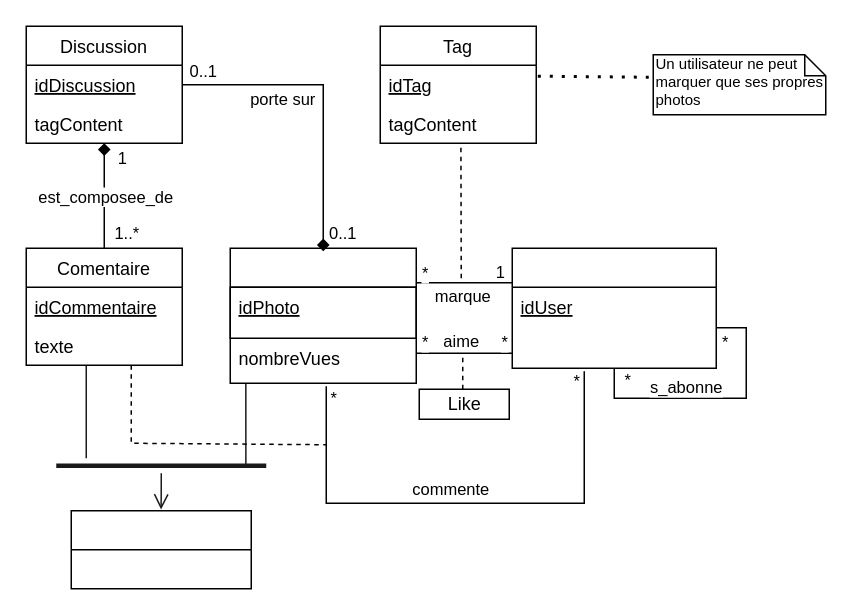
This 852x615 diagram has some shape labels left out. Each missing label, with the box of its shape:
ContenuNumerique: (70, 509, 251, 589)
Photographie: (229, 247, 416, 383)
Utilisateur: (511, 247, 716, 368)
